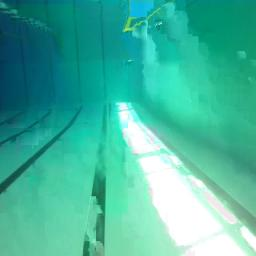Full: (155, 20, 165, 29), (124, 60, 134, 64)
